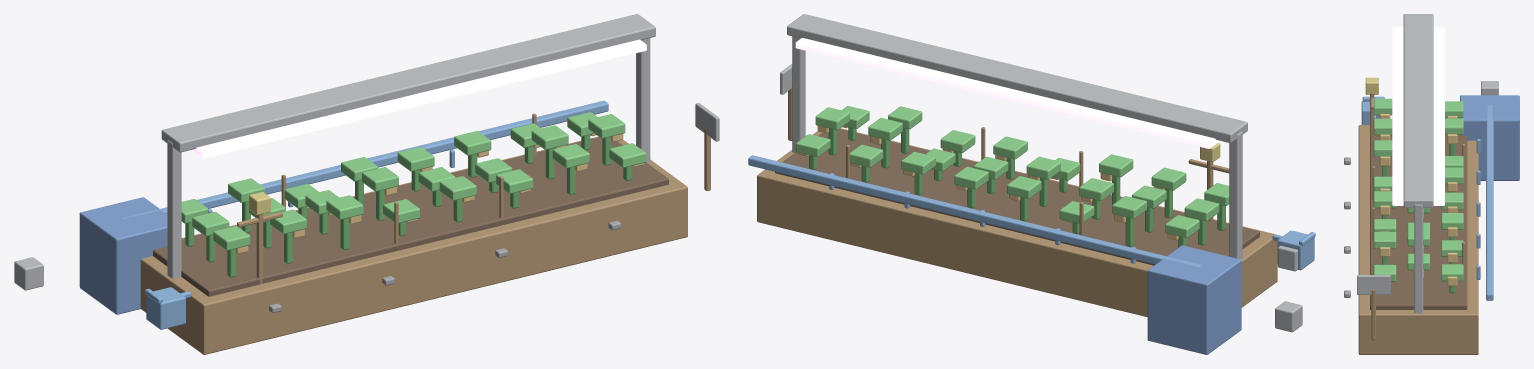
Rendered from грядка.glb.
3 views of the same model, side by side, from view 1: azimuth 30°, elevation 25°; view 2: azimuth 150°, elevation 25°; view 3: azimuth 270°, elevation 25° (orthographic). The views are drawn at different scales.
Parts seen in each view (by area): view 1: грядка, Lamp_Mesh, Plants_Mesh, Irrig_Mesh, Fruit_Mesh; view 2: грядка, Lamp_Mesh, Plants_Mesh, Irrig_Mesh, Fruit_Mesh; view 3: грядка, Lamp_Mesh, Plants_Mesh, Irrig_Mesh, Fruit_Mesh.
Part boxes in pixels (x1=…): грядка: x1=14, y1=103, x2=719, y2=354; Lamp_Mesh: x1=161, y1=14, x2=655, y2=278; Plants_Mesh: x1=181, y1=112, x2=646, y2=277; Irrig_Mesh: x1=79, y1=100, x2=608, y2=314; Fruit_Mesh: x1=236, y1=133, x2=644, y2=253; грядка: x1=757, y1=64, x2=1315, y2=332; Lamp_Mesh: x1=787, y1=14, x2=1247, y2=259; Plants_Mesh: x1=796, y1=106, x2=1229, y2=247; Irrig_Mesh: x1=748, y1=155, x2=1241, y2=354; Fruit_Mesh: x1=798, y1=126, x2=1197, y2=240; грядка: x1=1344, y1=77, x2=1498, y2=354; Lamp_Mesh: x1=1392, y1=14, x2=1444, y2=313; Plants_Mesh: x1=1373, y1=98, x2=1463, y2=293; Irrig_Mesh: x1=1460, y1=95, x2=1519, y2=300; Fruit_Mesh: x1=1379, y1=114, x2=1457, y2=286.
Bounding box in the file's own units: 7.65 × 2.26 × 2.35.
